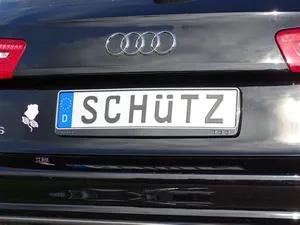number_plate: (43, 82, 267, 153)
